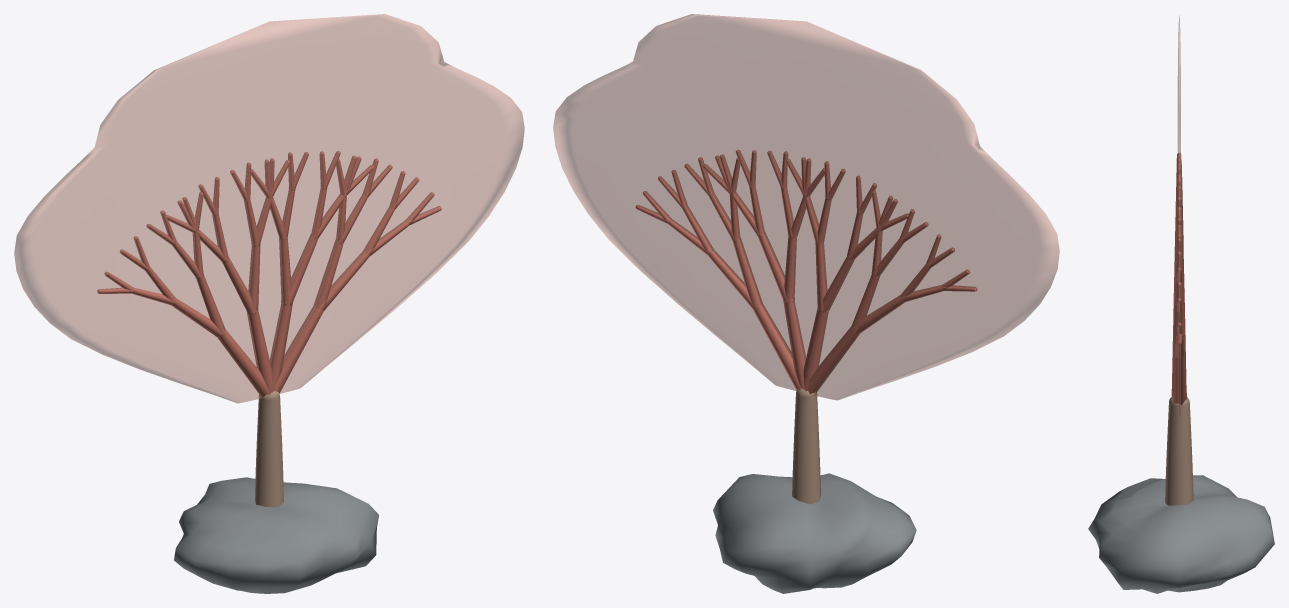
The model's file is sea_fan.glb.
3 renders of one model, left to right at view 1: azimuth 30°, elevation 25°; view 2: azimuth 150°, elevation 25°; view 3: azimuth 270°, elevation 25°, orthographic. The views are drawn at different scales.
Visible parts, largest first — view 1: sea-fan; view 2: sea-fan; view 3: sea-fan.
Part boxes in pixels (x1,y1,x2,y2): sea-fan: (14,14,524,593); sea-fan: (553,14,1059,593); sea-fan: (1088,15,1274,593).
Bounding box in the file's own units: 1.28 × 1.35 × 0.4298.
